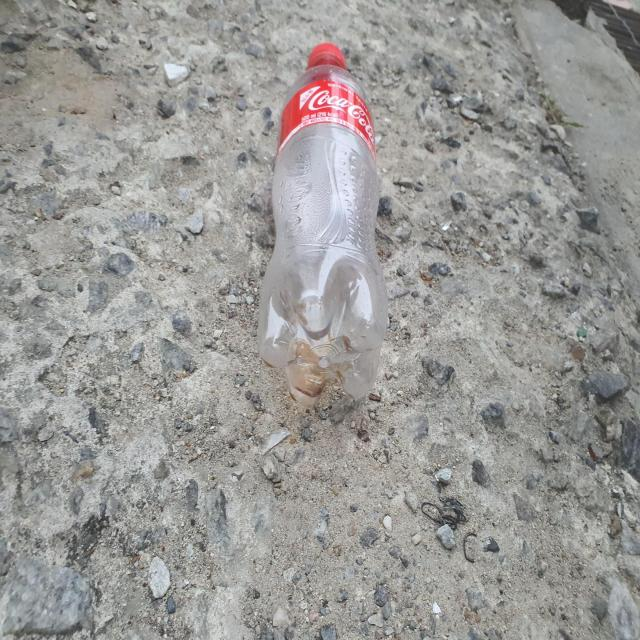plastic: (258, 41, 388, 406)
